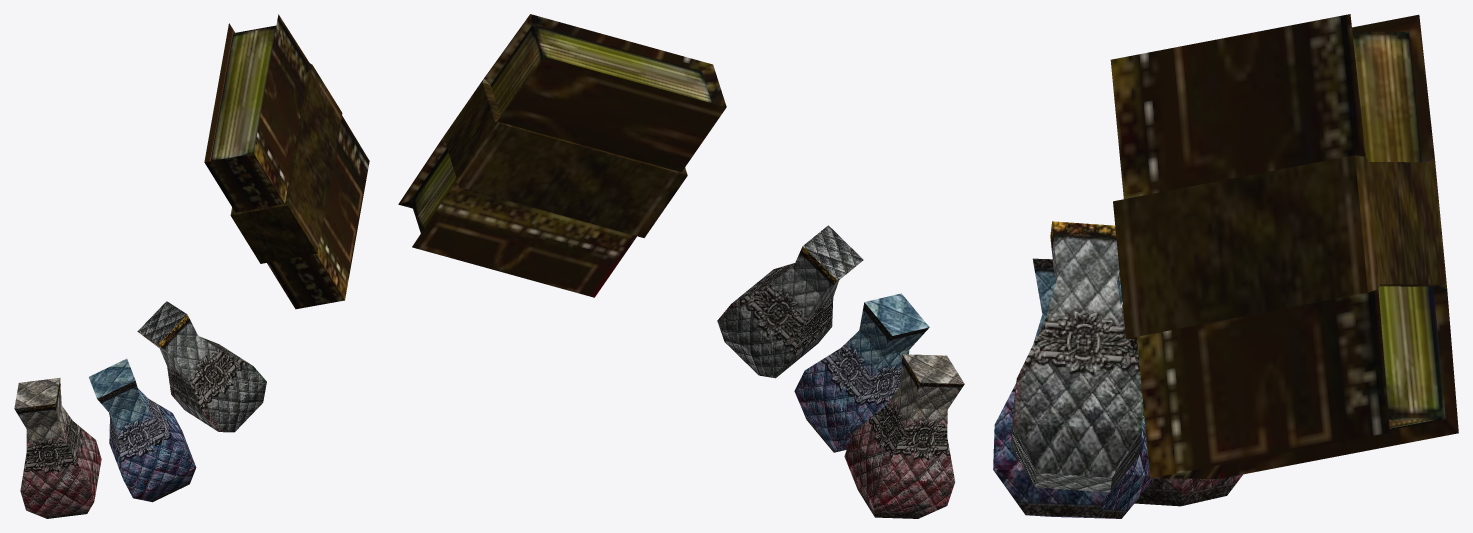
Rendered from STATIC_FIOLKI_BRAZOWA_FIX.glb.
The picture shows the model from 3 angles, left to right: view 1: azimuth 30°, elevation 25°; view 2: azimuth 150°, elevation 25°; view 3: azimuth 270°, elevation 25°; orthographic projection. The views are drawn at different scales.
Parts seen in each view (by area): view 1: STATIC_FIOLKI_BRAZOWA_FIX; view 2: STATIC_FIOLKI_BRAZOWA_FIX; view 3: STATIC_FIOLKI_BRAZOWA_FIX.
Boxes of the visible parts, x1=… form: STATIC_FIOLKI_BRAZOWA_FIX: x1=14, y1=14, x2=369, y2=518; STATIC_FIOLKI_BRAZOWA_FIX: x1=398, y1=14, x2=964, y2=518; STATIC_FIOLKI_BRAZOWA_FIX: x1=993, y1=14, x2=1458, y2=518.
Size of the model in its own units: 0.3684 by 0.3351 by 0.1942.
Materials: 2 (2 with a texture image).
